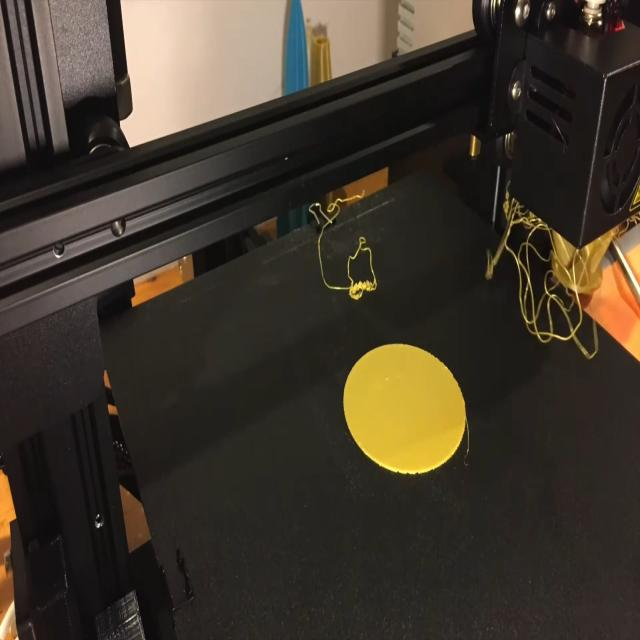spaghetti: (483, 180, 609, 371), (302, 172, 398, 319)
